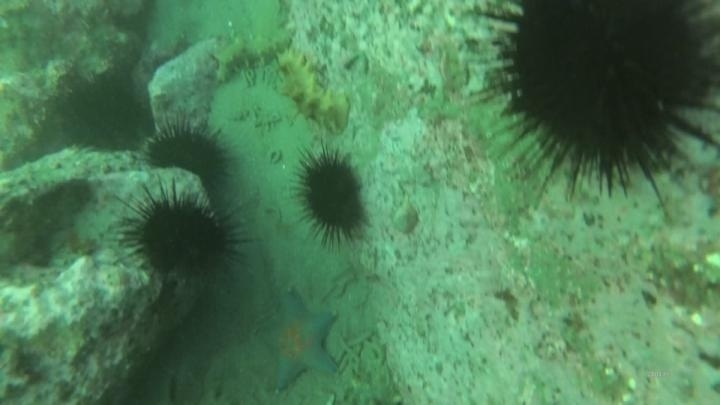echinus: (489, 1, 715, 201), (121, 187, 244, 284), (291, 146, 370, 248), (58, 73, 151, 153), (143, 118, 234, 195)
holothurian: (273, 47, 352, 135), (207, 27, 294, 85)
starfish: (257, 287, 342, 393)
